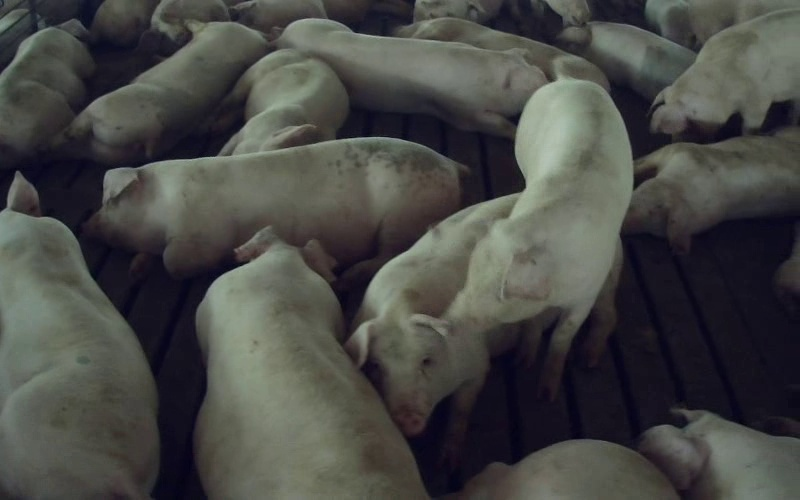pig: (194, 227, 427, 499), (445, 79, 632, 398), (345, 194, 557, 463), (85, 138, 465, 276), (0, 173, 158, 499), (276, 19, 546, 135), (63, 22, 265, 164), (623, 128, 799, 253), (651, 8, 799, 134), (395, 17, 609, 89), (639, 409, 799, 499), (0, 19, 94, 167), (219, 50, 348, 155), (454, 439, 678, 499), (557, 21, 695, 100)
